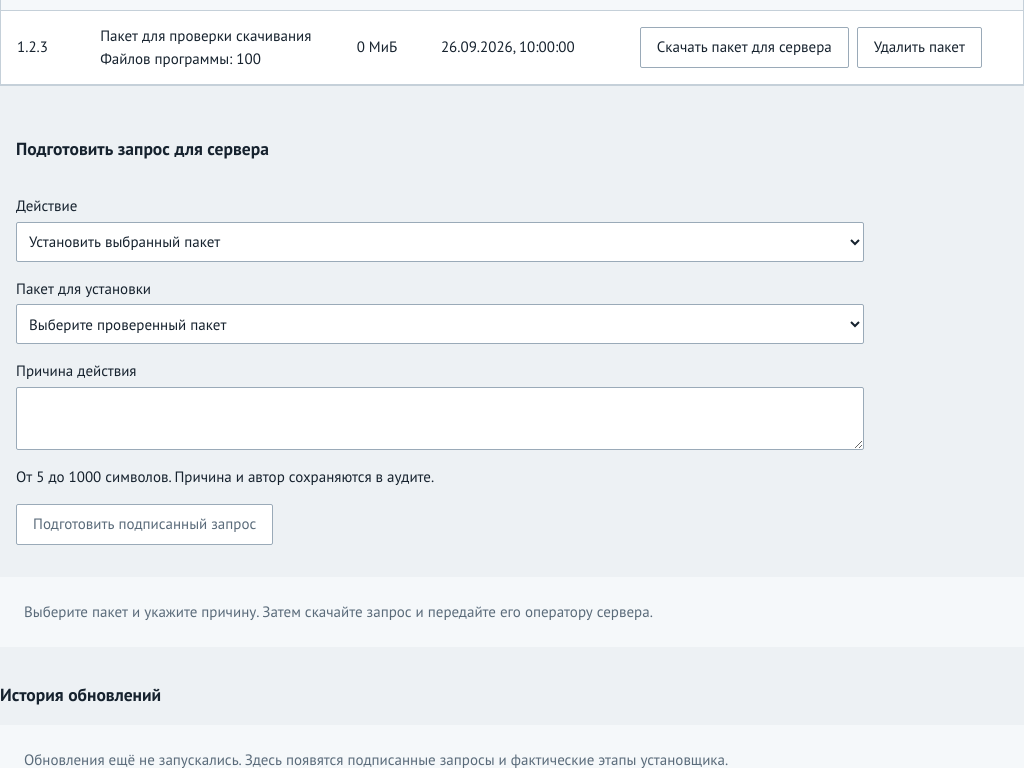
Scenario: preserves the form after a server download failure and retries the actual archive
(page scrolled)
Expected: the text "Пакет для проверки скачивания" is shown, [100, 26, 311, 45]
Type "Подготовка обновления на сервере" into the text box labelled "Причина действия". click: (440, 418)
box: [16, 387, 864, 450]
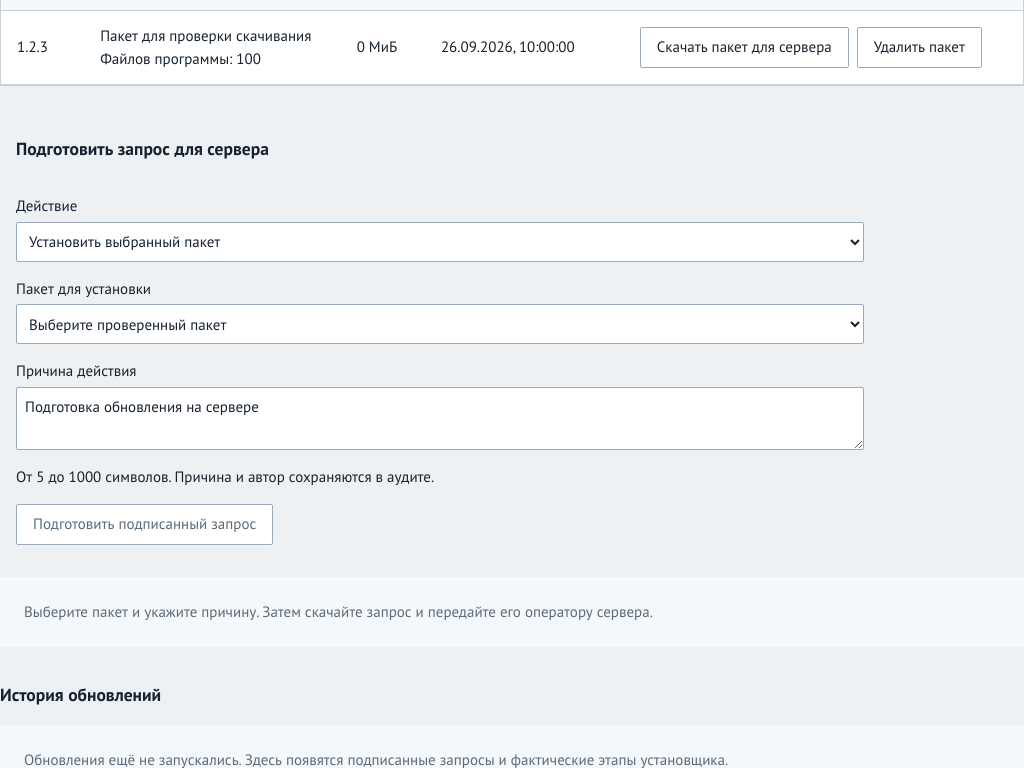
Click the button "Скачать пакет для сервера". click: (744, 48)
box: [640, 27, 849, 68]
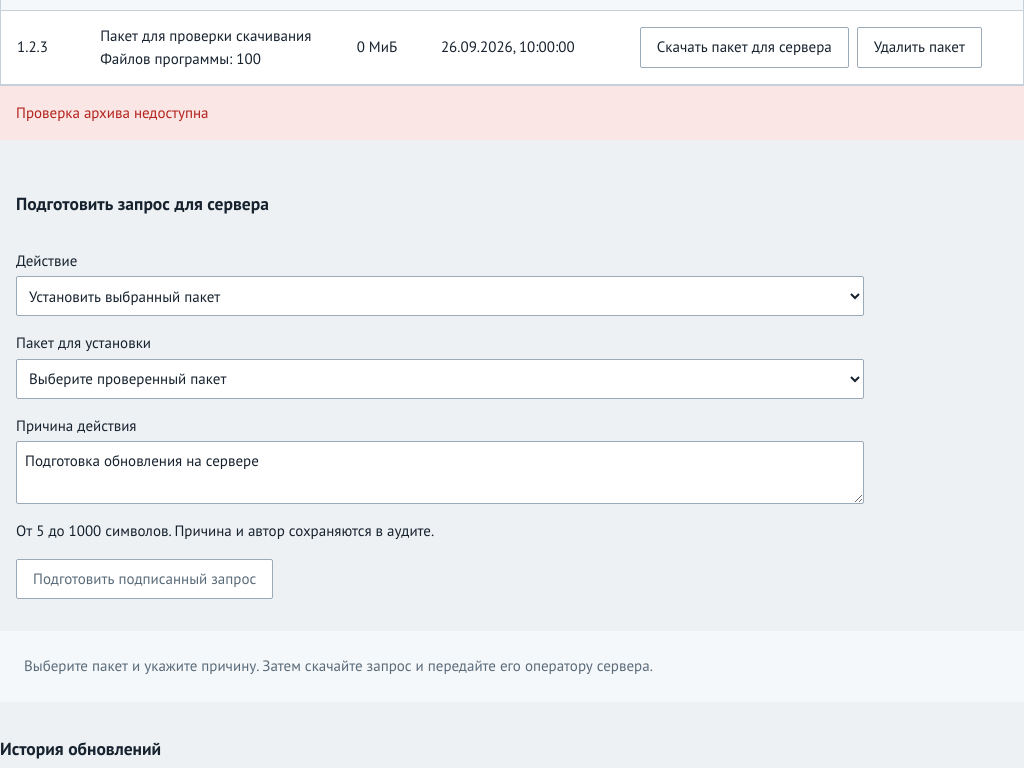
Expected: the text "Проверка архива недоступна" is shown, [0, 86, 1023, 140]
Click the button "Скачать пакет для сервера". click: (744, 48)
box: [640, 27, 849, 68]
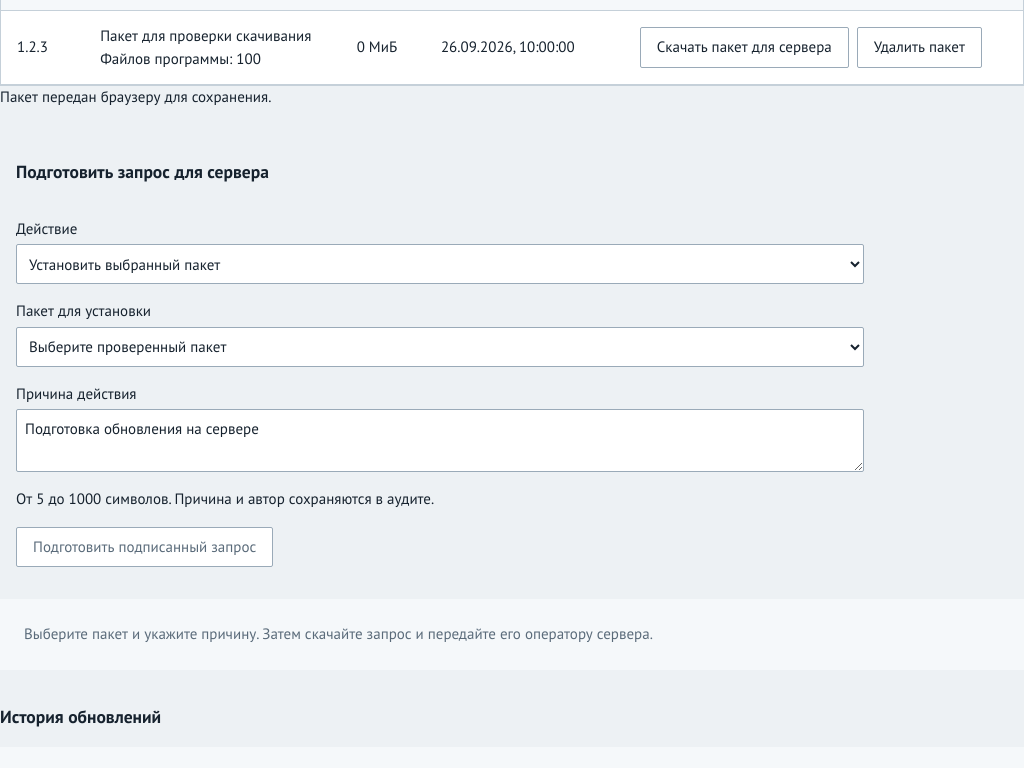
Expected: the text "Пакет передан браузеру для сохранения." is shown, [0, 87, 271, 106]
